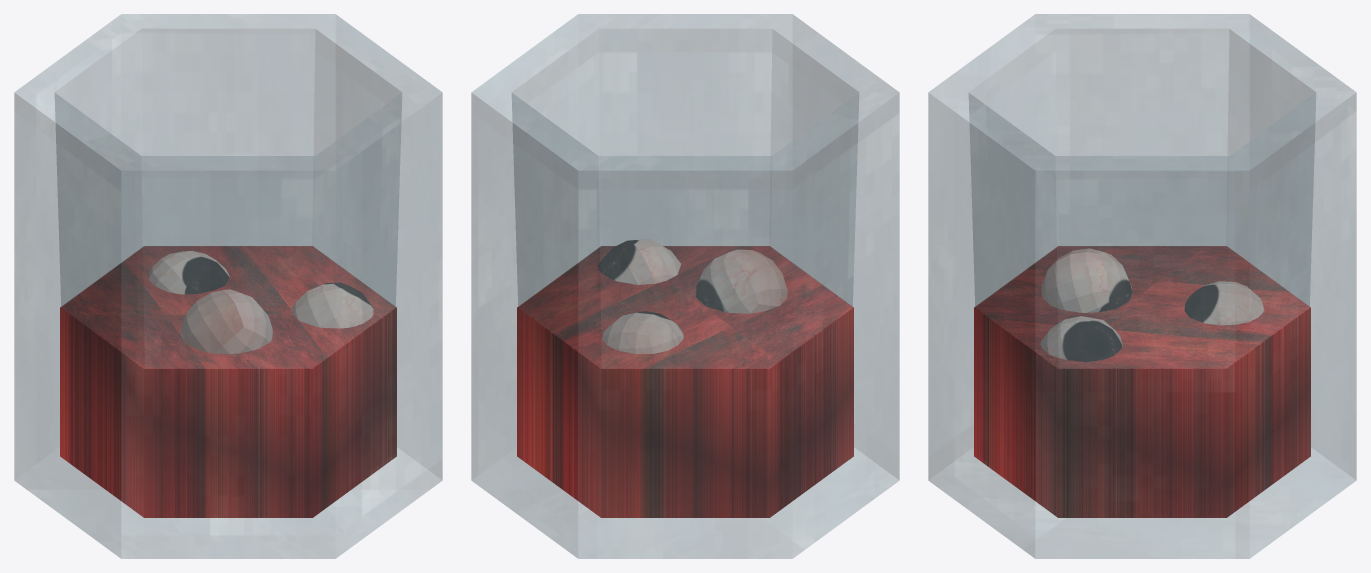
File: cup with ice.fbx
3 renders of one model, left to right at view 1: azimuth 30°, elevation 25°; view 2: azimuth 150°, elevation 25°; view 3: azimuth 270°, elevation 25°, orthographic.
Visible parts, largest first — view 1: Cylinder_0, Cylinder_0.001, Cube.002, Cube.001, Cube; view 2: Cylinder_0, Cylinder_0.001, Cube.002, Cube.001, Cube; view 3: Cylinder_0, Cylinder_0.001, Cube.002, Cube.001, Cube.
Part boxes in pixels (x1=…): Cylinder_0: x1=14, y1=14, x2=442, y2=558; Cylinder_0.001: x1=60, y1=246, x2=396, y2=517; Cube.002: x1=181, y1=289, x2=272, y2=353; Cube.001: x1=292, y1=282, x2=373, y2=328; Cube: x1=149, y1=251, x2=229, y2=294; Cylinder_0: x1=471, y1=14, x2=899, y2=558; Cylinder_0.001: x1=517, y1=246, x2=853, y2=517; Cube.002: x1=696, y1=249, x2=787, y2=313; Cube.001: x1=598, y1=239, x2=680, y2=284; Cube: x1=602, y1=311, x2=683, y2=353; Cylinder_0: x1=928, y1=14, x2=1356, y2=558; Cylinder_0.001: x1=974, y1=246, x2=1310, y2=517; Cube.002: x1=1041, y1=248, x2=1131, y2=312; Cube.001: x1=1040, y1=316, x2=1122, y2=361; Cube: x1=1184, y1=281, x2=1264, y2=325.
Bounding box in the file's own units: 13182 × 15221 × 15221.
Materials: 5 (5 with a texture image).
